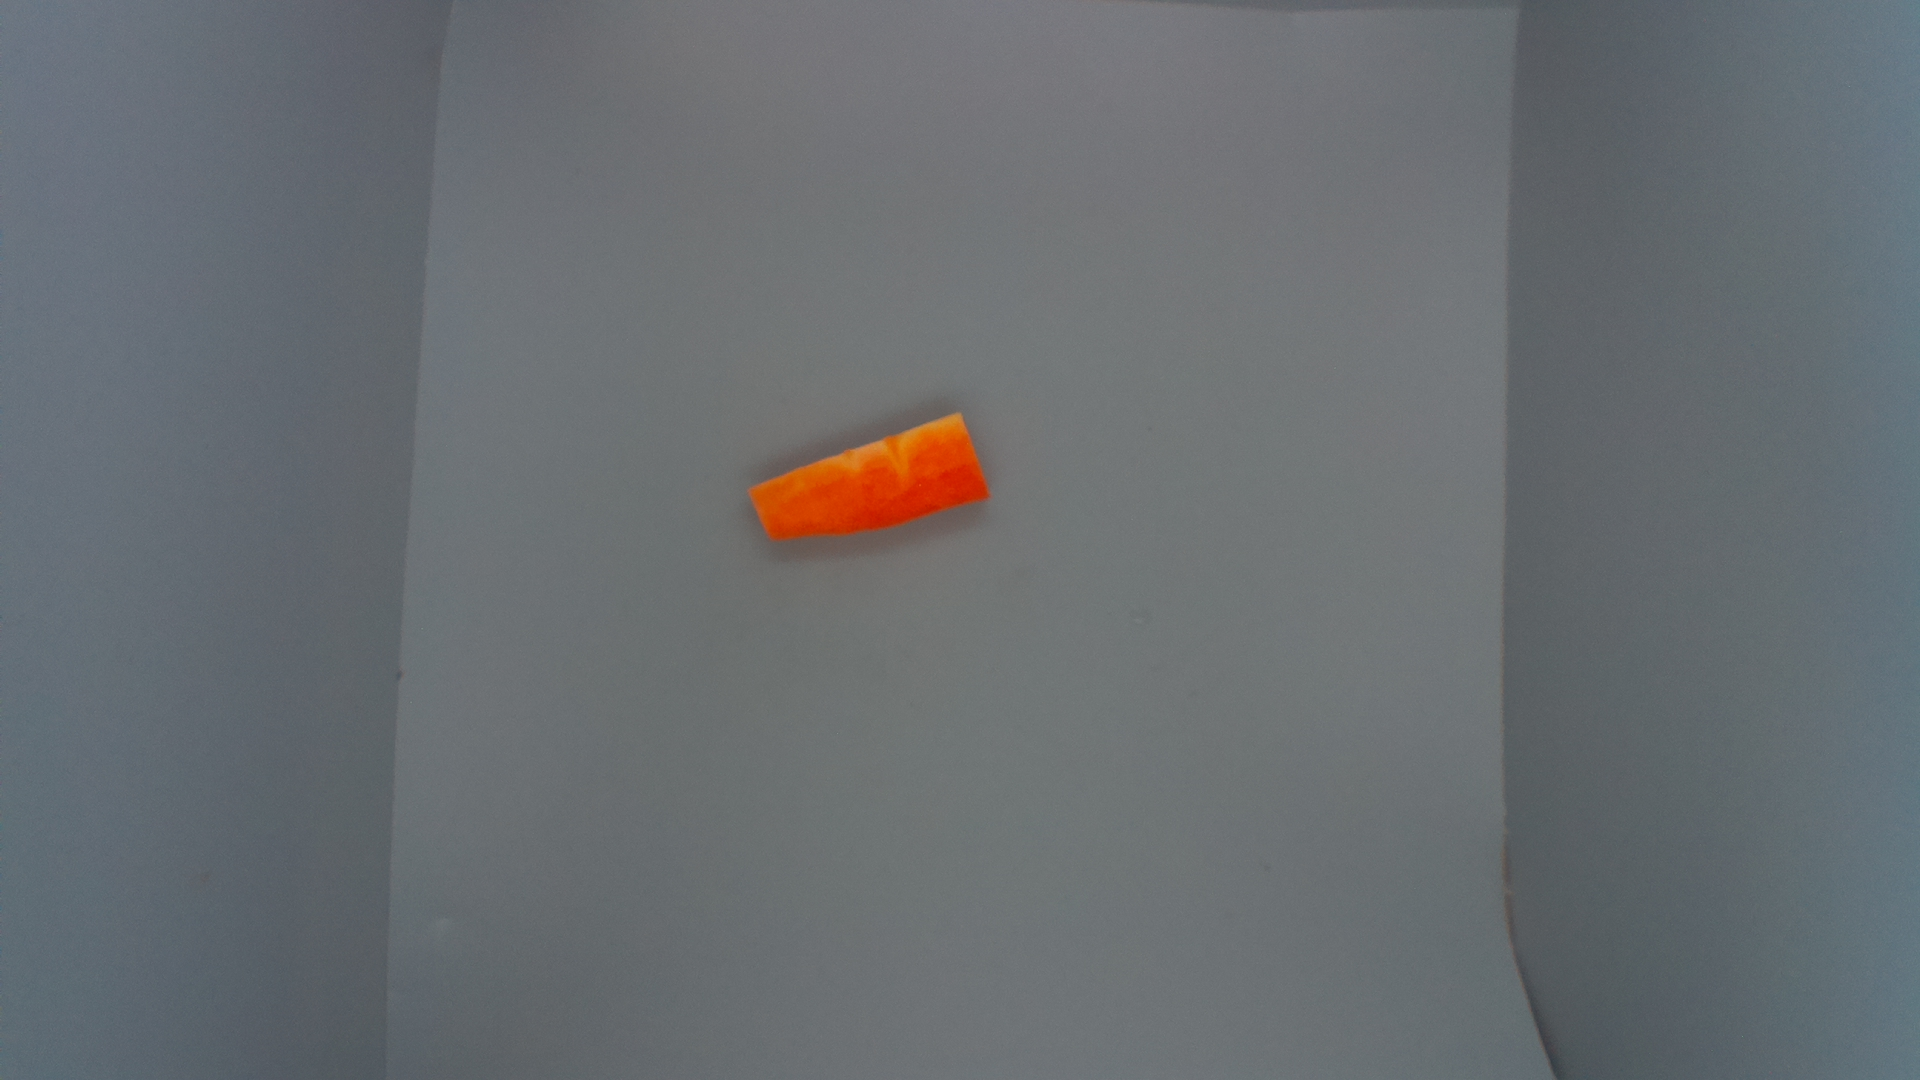carrot: (742, 413, 996, 550)
